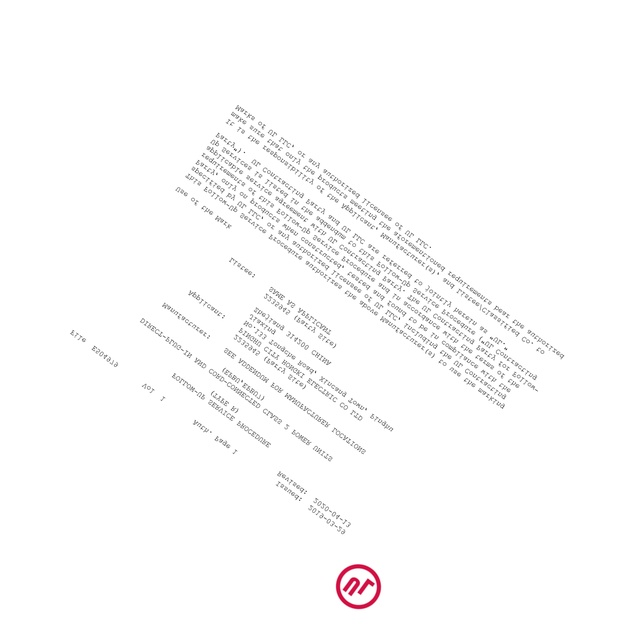ul: (336, 562, 383, 608)
